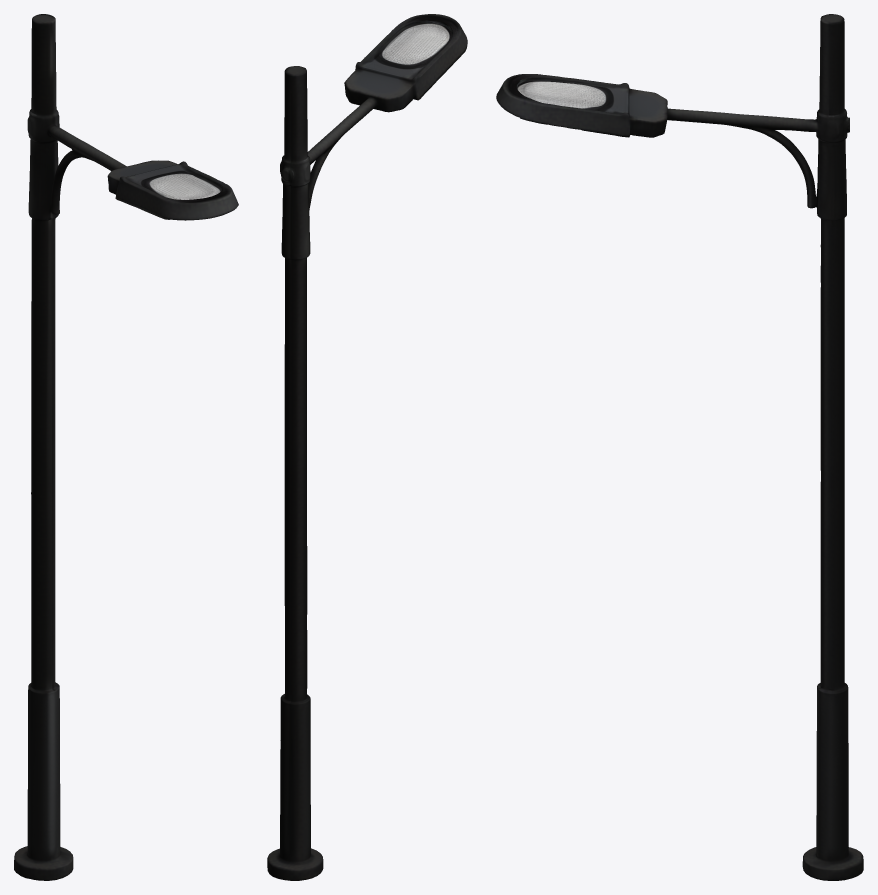
File: street-lamp.glb
3 renders of one model, left to right at view 1: azimuth 30°, elevation 25°; view 2: azimuth 150°, elevation 25°; view 3: azimuth 270°, elevation 25°, orthographic. The views are drawn at different scales.
Parts seen in each view (by area): view 1: model; view 2: model; view 3: model.
Part boxes in pixels (<box>): model: <box>14,14,238,880</box>; model: <box>267,14,467,880</box>; model: <box>496,14,863,880</box>.
Bounding box in the file's own units: 0.1497 × 1.7 × 0.6656.
1 material, 1 textured.
